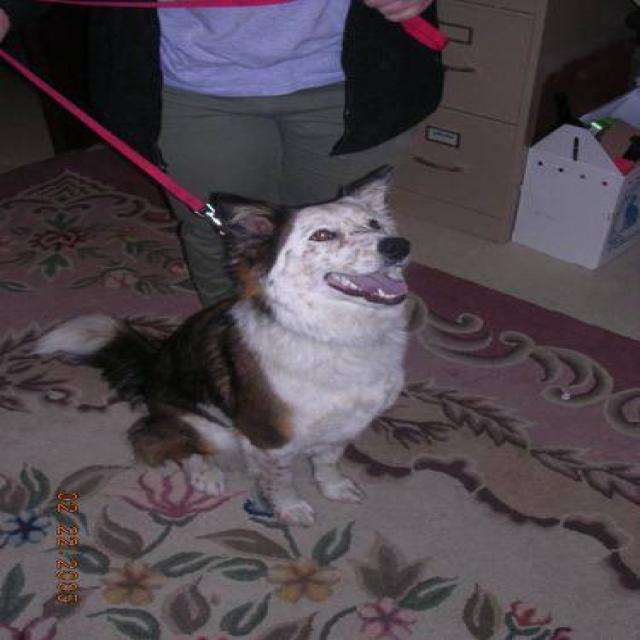dog: (29, 162, 423, 526)
